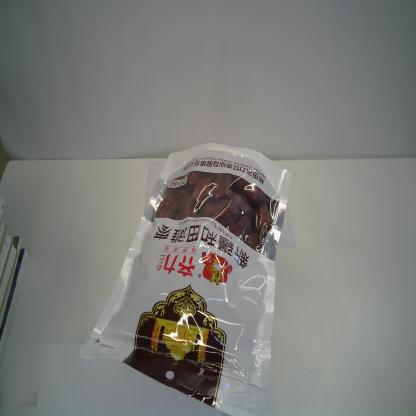Dried Food: (74, 141, 294, 416)
